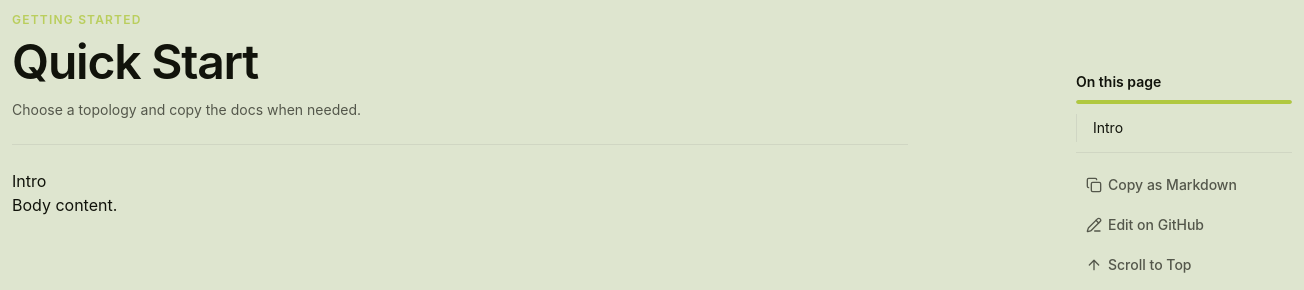
Scenario: DocsPage › shows an error state when clipboard writes fail
What coordinates should you click on to do the following:
click the button "Copy as Markdown"
I would click on:
 (1184, 185)
Its box is [1076,169,1292,201].
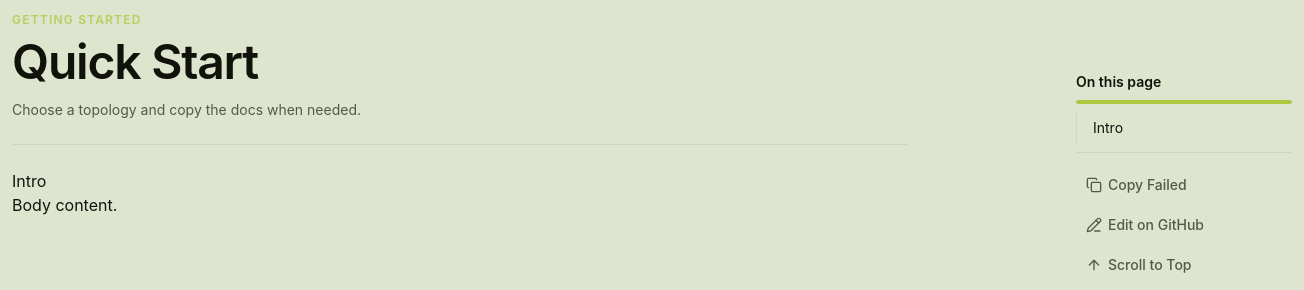
Expected: the button "Copy Failed" is shown, [1076,169,1292,201]
